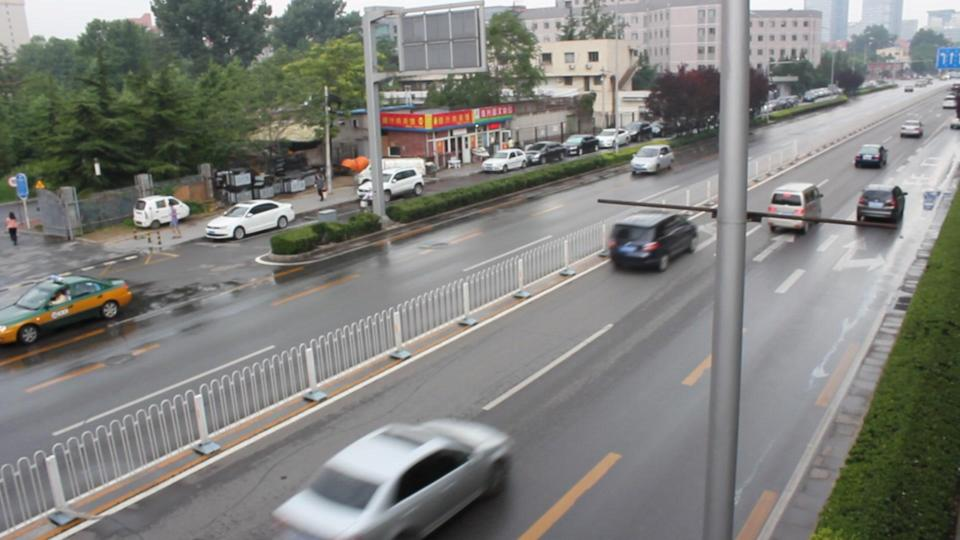Car: (279, 419, 516, 535), (855, 184, 903, 224), (627, 142, 669, 173), (849, 142, 884, 167)
Minivan: (607, 208, 695, 273), (767, 183, 818, 235)
